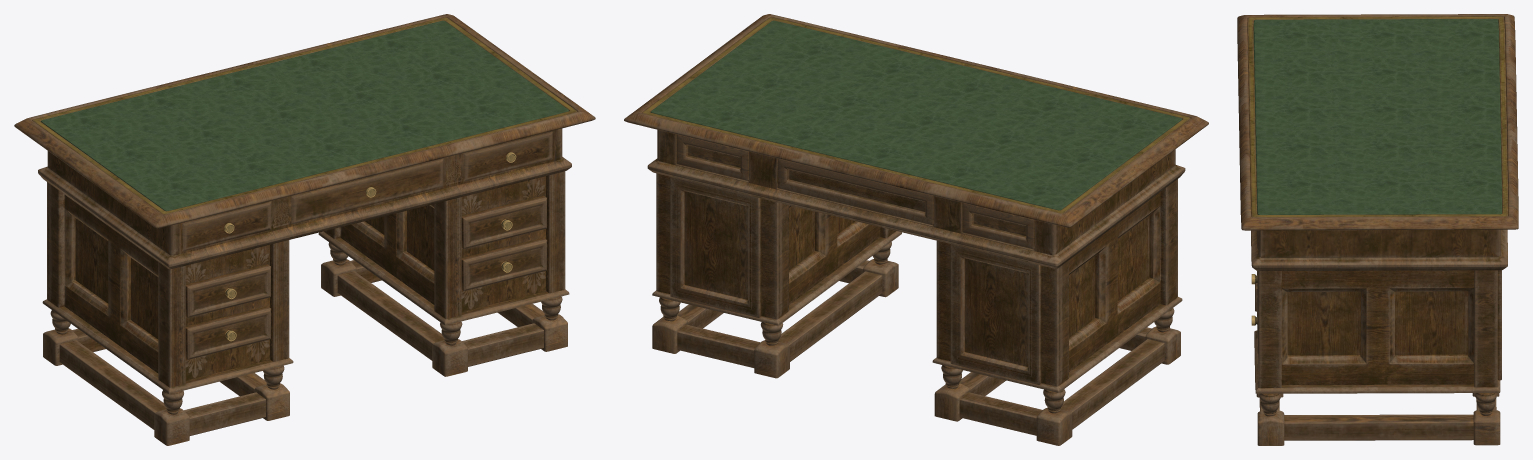
Rendered from testigen.fbx.
3 renders of one model, left to right at view 1: azimuth 30°, elevation 25°; view 2: azimuth 150°, elevation 25°; view 3: azimuth 270°, elevation 25°, orthographic. The views are drawn at different scales.
Visible parts, largest first — view 1: defaultMaterial.009; view 2: defaultMaterial.009; view 3: defaultMaterial.009.
Part boxes in pixels (bbox=[...]): defaultMaterial.009: bbox=[14, 14, 595, 445]; defaultMaterial.009: bbox=[624, 14, 1208, 445]; defaultMaterial.009: bbox=[1237, 14, 1518, 445].
Bounding box in the file's own units: 153 × 77.71 × 85.4.
1 material, 1 textured.
